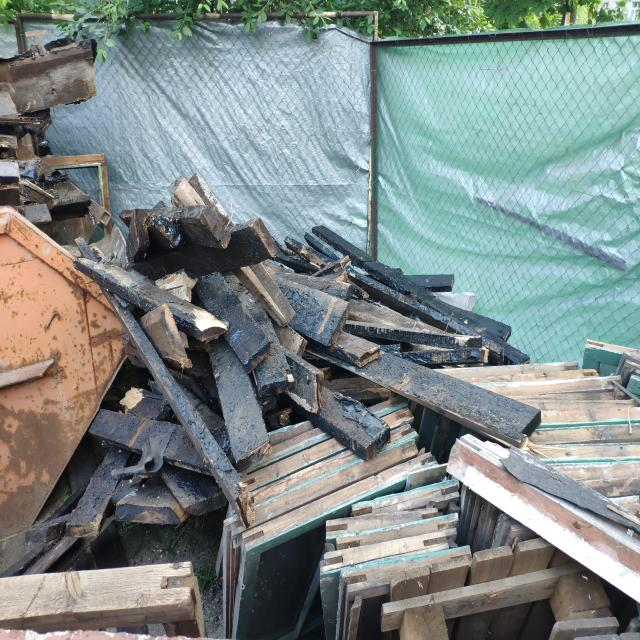entulho: (449, 434, 640, 601), (321, 333, 542, 448), (325, 549, 575, 636), (328, 460, 486, 576), (0, 558, 211, 640), (222, 497, 326, 638), (239, 421, 369, 530), (76, 251, 225, 341), (117, 218, 286, 292), (303, 222, 429, 304), (88, 408, 227, 480), (209, 338, 274, 469), (1, 40, 104, 121), (33, 152, 110, 226), (526, 359, 623, 416), (66, 452, 129, 534), (119, 207, 235, 250), (316, 391, 384, 458), (583, 336, 640, 406), (412, 275, 481, 324), (163, 174, 223, 218), (116, 486, 191, 520), (0, 133, 32, 210), (164, 474, 230, 506)
